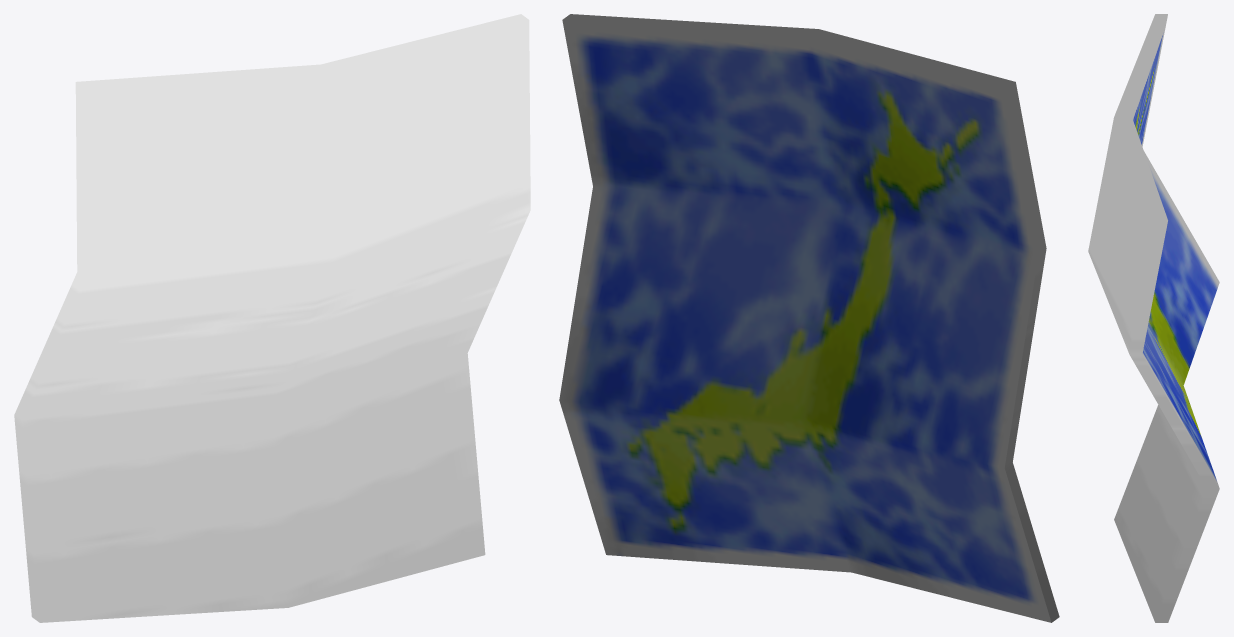
File: view.ico.obj
3 views of the same model, side by side, from view 1: azimuth 30°, elevation 25°; view 2: azimuth 150°, elevation 25°; view 3: azimuth 270°, elevation 25° (orthographic). The views are drawn at different scales.
Bounding box in the file's own units: 4.38 × 4.83 × 1.27.
Materials: 1 (1 with a texture image).
